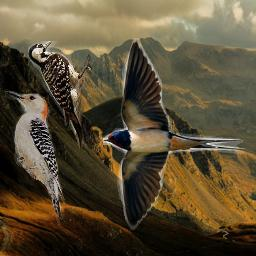Swallow: (103, 38, 245, 231)
Woodpecker: (4, 85, 69, 226), (28, 41, 92, 149)
